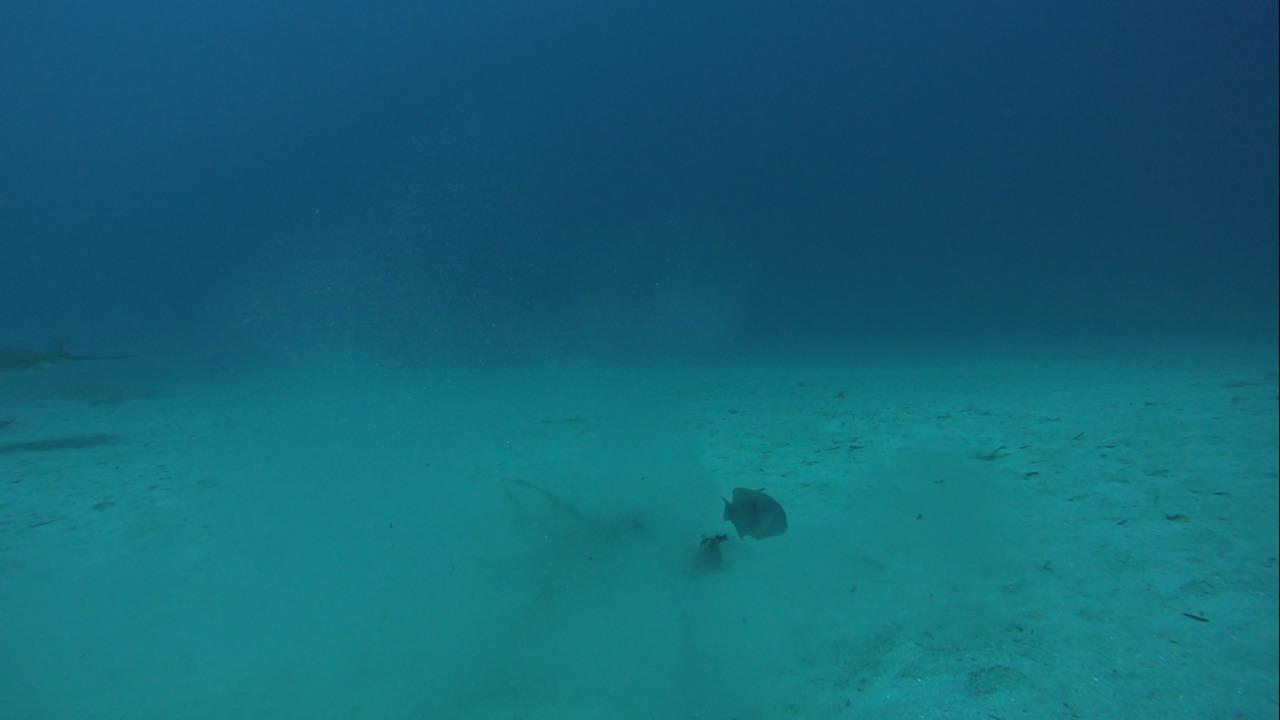myliobatis: (4, 331, 157, 394)
raor: (716, 484, 794, 539)
